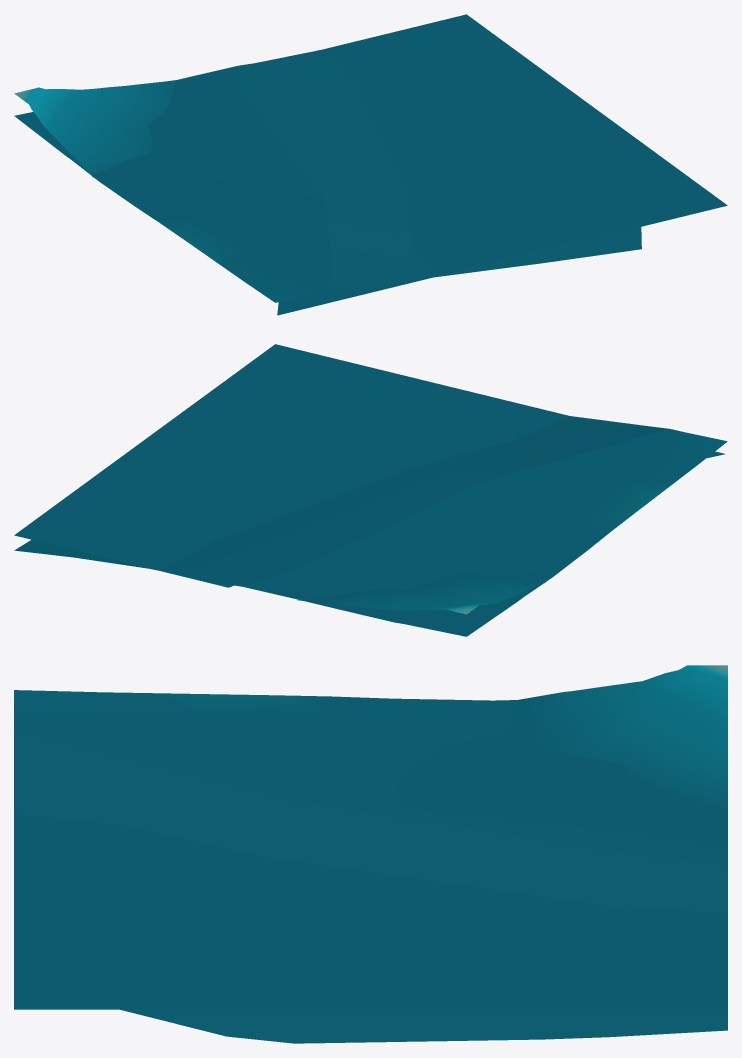
3 renders of one model, top to bottom at view 1: azimuth 30°, elevation 25°; view 2: azimuth 150°, elevation 25°; view 3: azimuth 270°, elevation 25°, orthographic. The views are drawn at different scales.
Parts seen in each view (by area): view 1: G:\FFXIV-MapTools\exports\s1f3\bg\ffxiv\sea_s1\fld\s1f3\bgpl (×2); view 2: G:\FFXIV-MapTools\exports\s1f3\bg\ffxiv\sea_s1\fld\s1f3\bgpl (×2); view 3: G:\FFXIV-MapTools\exports\s1f3\bg\ffxiv\sea_s1\fld\s1f3\bgpl (×2).
Boxes of the visible parts, bbox=[...] form: G:\FFXIV-MapTools\exports\s1f3\bg\ffxiv\sea_s1\fld\s1f3\bgpl (×2): bbox=[14, 14, 727, 315]; G:\FFXIV-MapTools\exports\s1f3\bg\ffxiv\sea_s1\fld\s1f3\bgpl (×2): bbox=[14, 344, 727, 636]; G:\FFXIV-MapTools\exports\s1f3\bg\ffxiv\sea_s1\fld\s1f3\bgpl (×2): bbox=[14, 670, 727, 1043].
Size of the model in its own units: 128 by 15.15 by 128.
